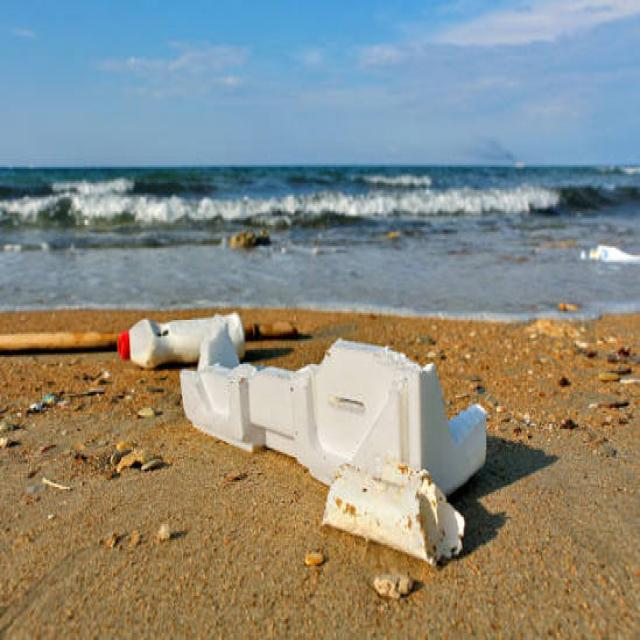styrofoam: (178, 362, 515, 618), (98, 334, 264, 386), (101, 306, 262, 336)
